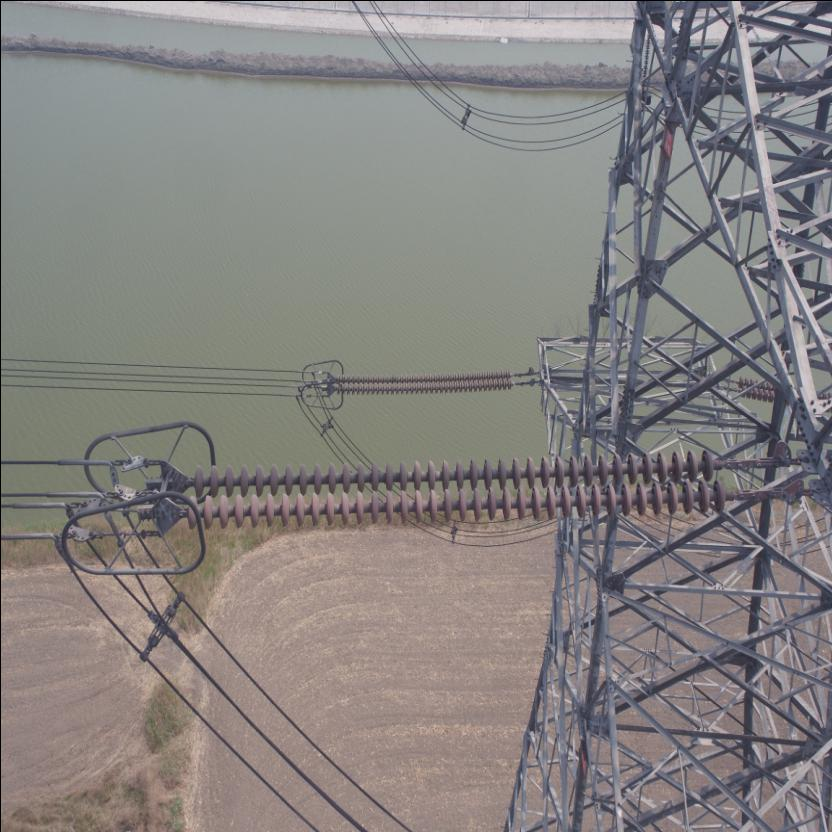insulator: (169, 442, 764, 530), (329, 365, 527, 396)
